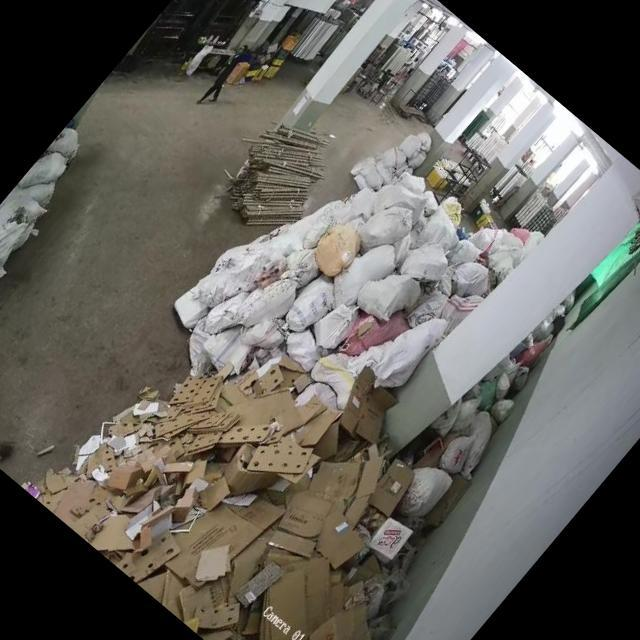person: (184, 44, 258, 125)
